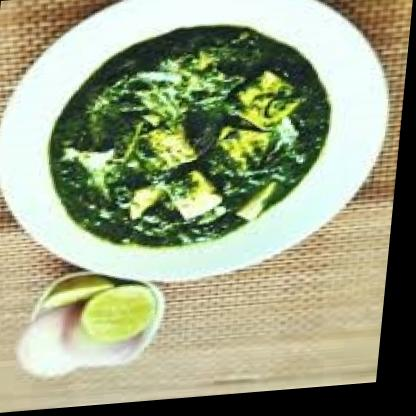palak_paneer: (43, 19, 342, 258)
